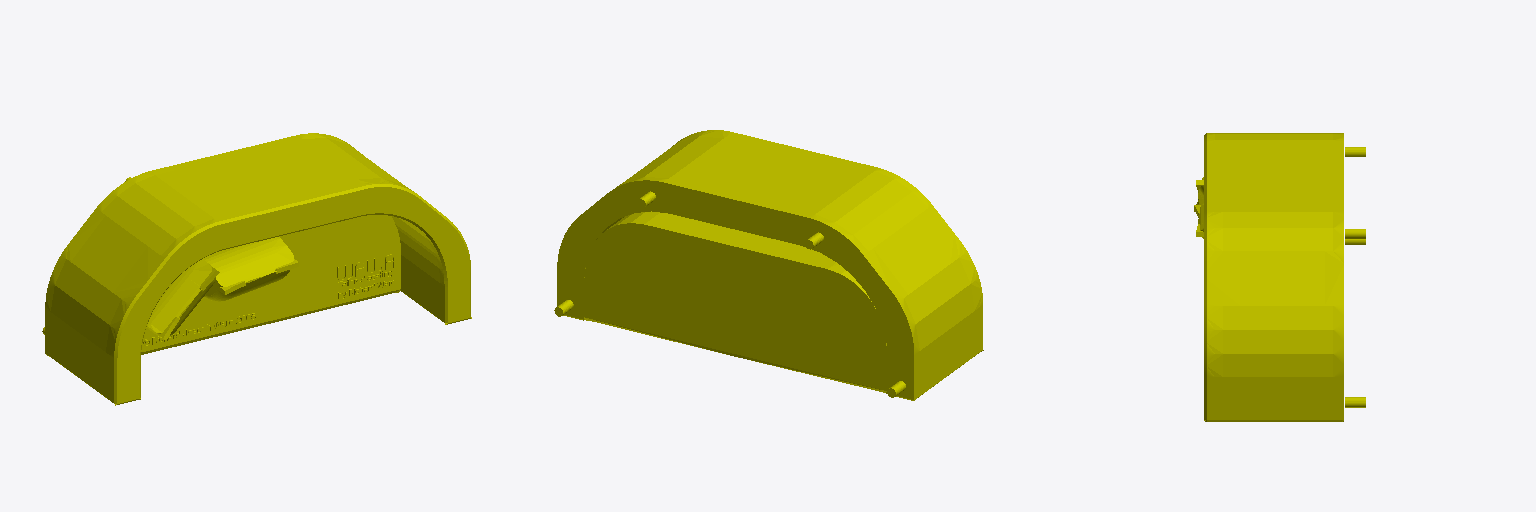
The model's file is sofa2.obj.
3 views of the same model, side by side, from view 1: azimuth 30°, elevation 25°; view 2: azimuth 150°, elevation 25°; view 3: azimuth 270°, elevation 25° (orthographic).
Parts seen in each view (by area): view 1: Shape7, Shape10, Shape78, Shape5, Shape68, Shape45, Shape15, Shape14, Shape84; view 2: Shape76, Shape7, Shape4, Shape81, Shape75; view 3: Shape7, Shape15.
Part boxes in pixels (x1,y1,x2,y2): Shape7: (45,133,413,402); Shape10: (117,187,469,403); Shape78: (141,215,400,351); Shape5: (392,216,444,322); Shape68: (203,237,293,286); Shape45: (147,259,211,332); Shape15: (114,184,471,405); Shape14: (140,213,447,398); Shape84: (141,289,400,354); Shape76: (584,223,887,390); Shape7: (616,130,982,399); Shape4: (557,180,913,399); Shape81: (607,211,875,308); Shape75: (584,317,886,393); Shape7: (1207,133,1343,419); Shape15: (1204,133,1206,420).
Bounding box in the file's own units: 2 × 0.85 × 0.8297.